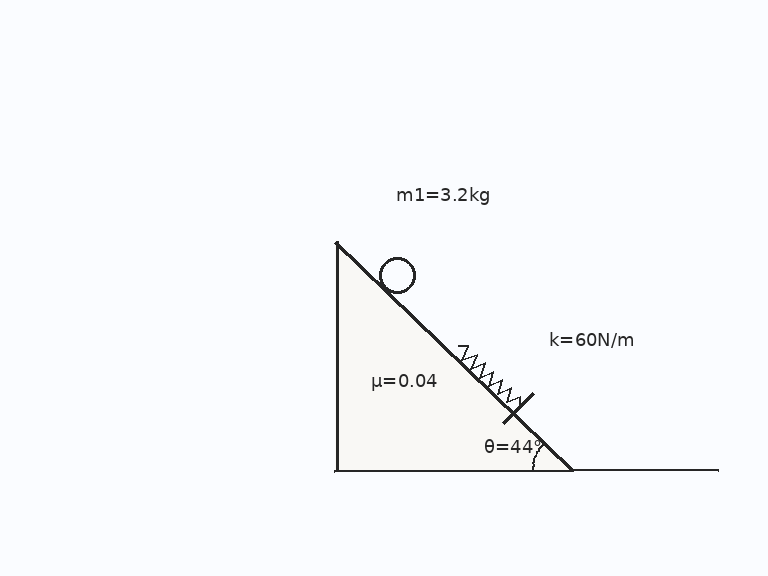ball: (377, 255, 417, 295)
ramp: (334, 239, 575, 472)
spring: (456, 344, 522, 408)
